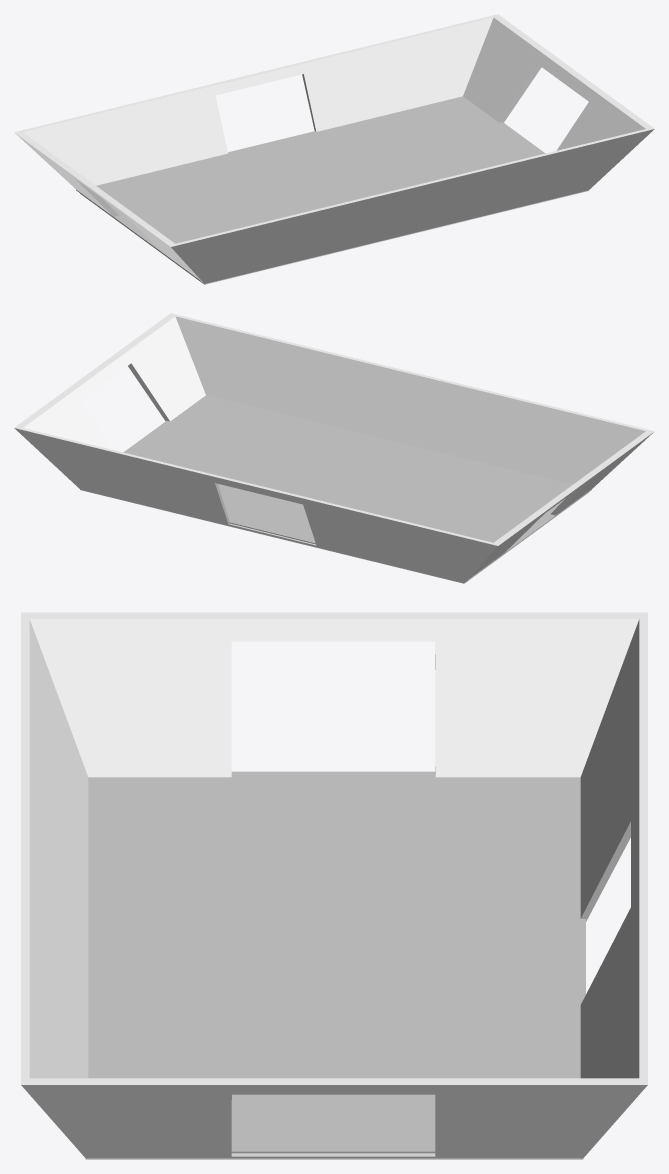
The model's file is BottomLeftRight.fbx.
3 views of the same model, one above another, from view 1: azimuth 30°, elevation 25°; view 2: azimuth 150°, elevation 25°; view 3: azimuth 270°, elevation 25° (orthographic). The views are drawn at different scales.
Parts seen in each view (by area): view 1: Room5, Piso1; view 2: Room5, Piso1; view 3: Piso1, Room5.
Boxes of the visible parts, box(x1,y1,x2,y2) form: Room5: box(14, 14, 654, 284); Piso1: box(76, 96, 545, 281); Room5: box(14, 313, 654, 583); Piso1: box(123, 395, 591, 581); Piso1: box(88, 771, 585, 1153); Room5: box(21, 612, 647, 1159).
Size of the model in its own units: 4100 by 500 by 2300.
